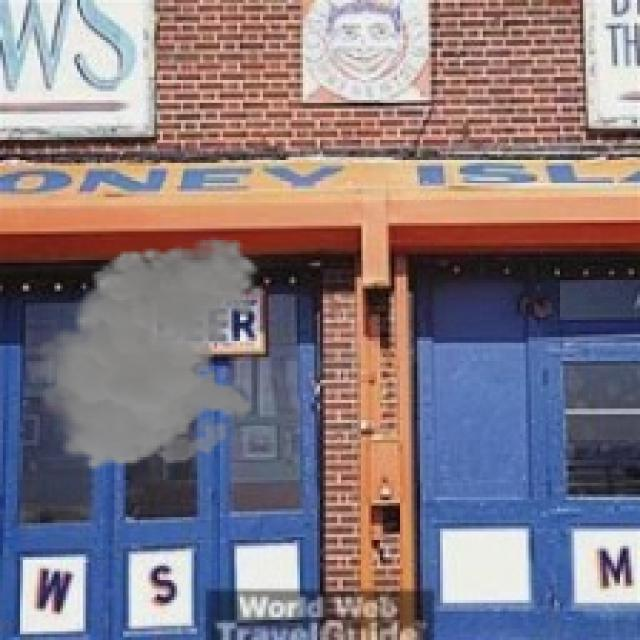Smoke: (28, 237, 266, 472)
